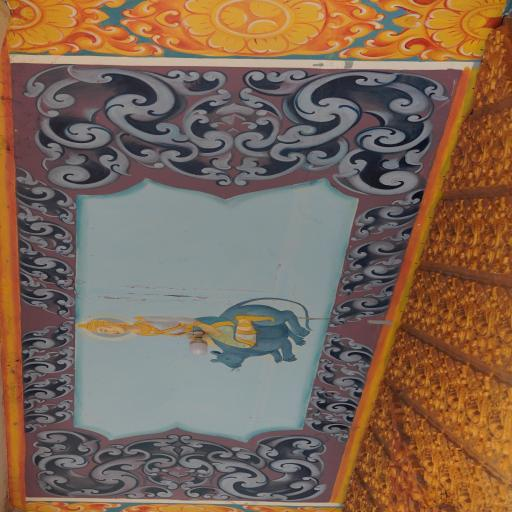hoa: (182, 0, 324, 56), (426, 0, 505, 62), (2, 0, 75, 52), (122, 504, 247, 512)
la: (20, 63, 236, 190), (235, 66, 451, 192), (31, 425, 178, 502), (176, 428, 328, 501), (77, 1, 164, 57), (122, 1, 205, 54), (317, 0, 387, 54), (344, 28, 458, 61), (12, 168, 78, 225), (12, 204, 77, 258), (16, 242, 75, 292), (353, 193, 423, 234), (346, 228, 414, 269), (334, 284, 393, 328), (16, 277, 75, 320), (314, 330, 376, 366), (336, 260, 401, 292), (18, 318, 74, 354), (20, 348, 80, 381), (314, 361, 364, 399), (22, 373, 74, 407), (304, 407, 356, 441), (308, 386, 362, 416), (25, 399, 74, 432), (372, 0, 444, 20), (25, 500, 118, 512), (239, 504, 342, 512)
than: (70, 310, 290, 352)
